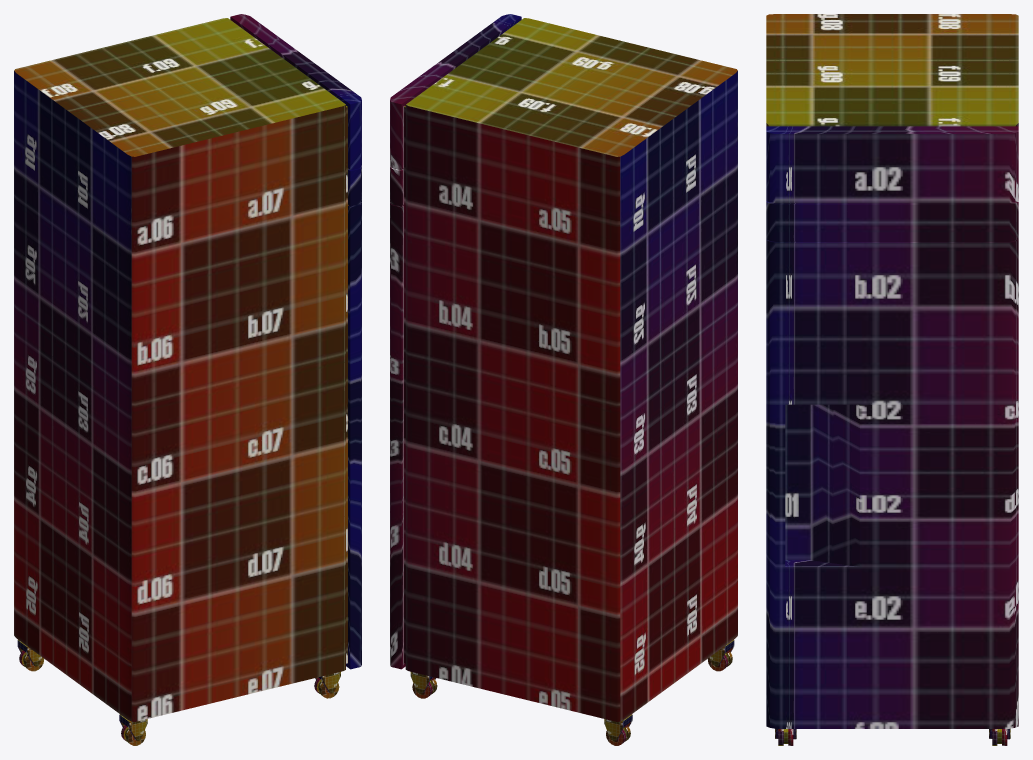
Rendered from freezer_mesh01.fbx.
The picture shows the model from 3 angles, left to right: view 1: azimuth 30°, elevation 25°; view 2: azimuth 150°, elevation 25°; view 3: azimuth 270°, elevation 25°; orthographic projection. The views are drawn at different scales.
Parts seen in each view (by area): view 1: freezer03; view 2: freezer03; view 3: freezer03.
Part boxes in pixels (<box>): freezer03: <box>14,14,361,745</box>; freezer03: <box>390,14,737,745</box>; freezer03: <box>766,14,1018,745</box>.
Bounding box in the file's own units: 37.85 × 91.95 × 33.62.
